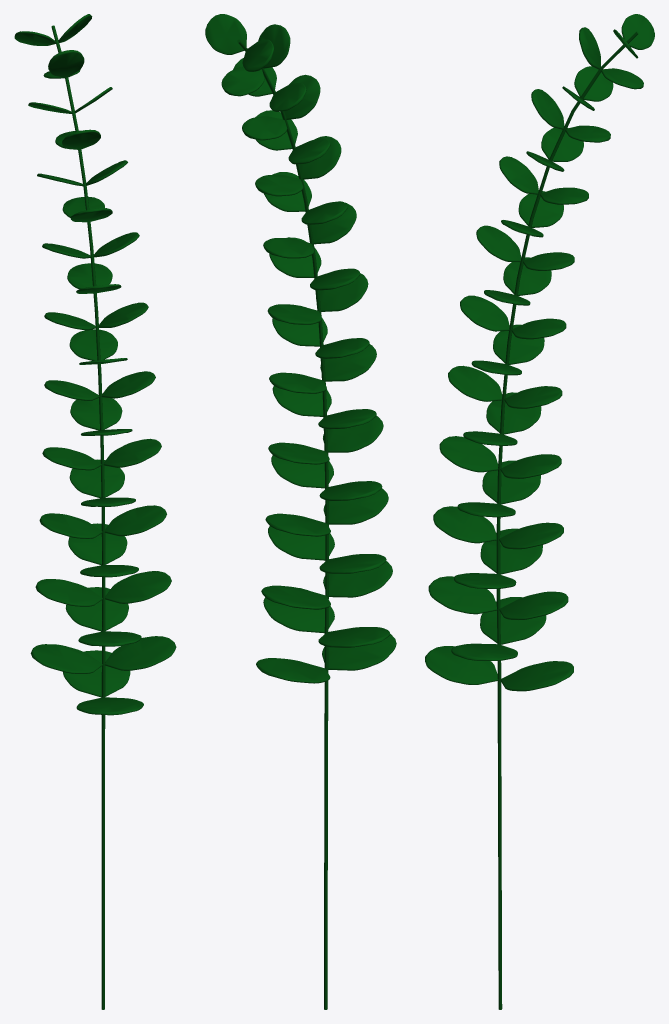
File: Plant_3.fbx
3 views of the same model, side by side, from view 1: azimuth 30°, elevation 25°; view 2: azimuth 150°, elevation 25°; view 3: azimuth 270°, elevation 25° (orthographic). The views are drawn at different scales.
Parts seen in each view (by area): view 1: Plant_3; view 2: Plant_3; view 3: Plant_3.
Part boxes in pixels (left/top/right/bottom): Plant_3: left=14, top=14, right=176, bottom=1009; Plant_3: left=205, top=14, right=396, bottom=1009; Plant_3: left=425, top=14, right=654, bottom=1009.
Bounding box in the file's own units: 9.63 × 71.22 × 14.88.
